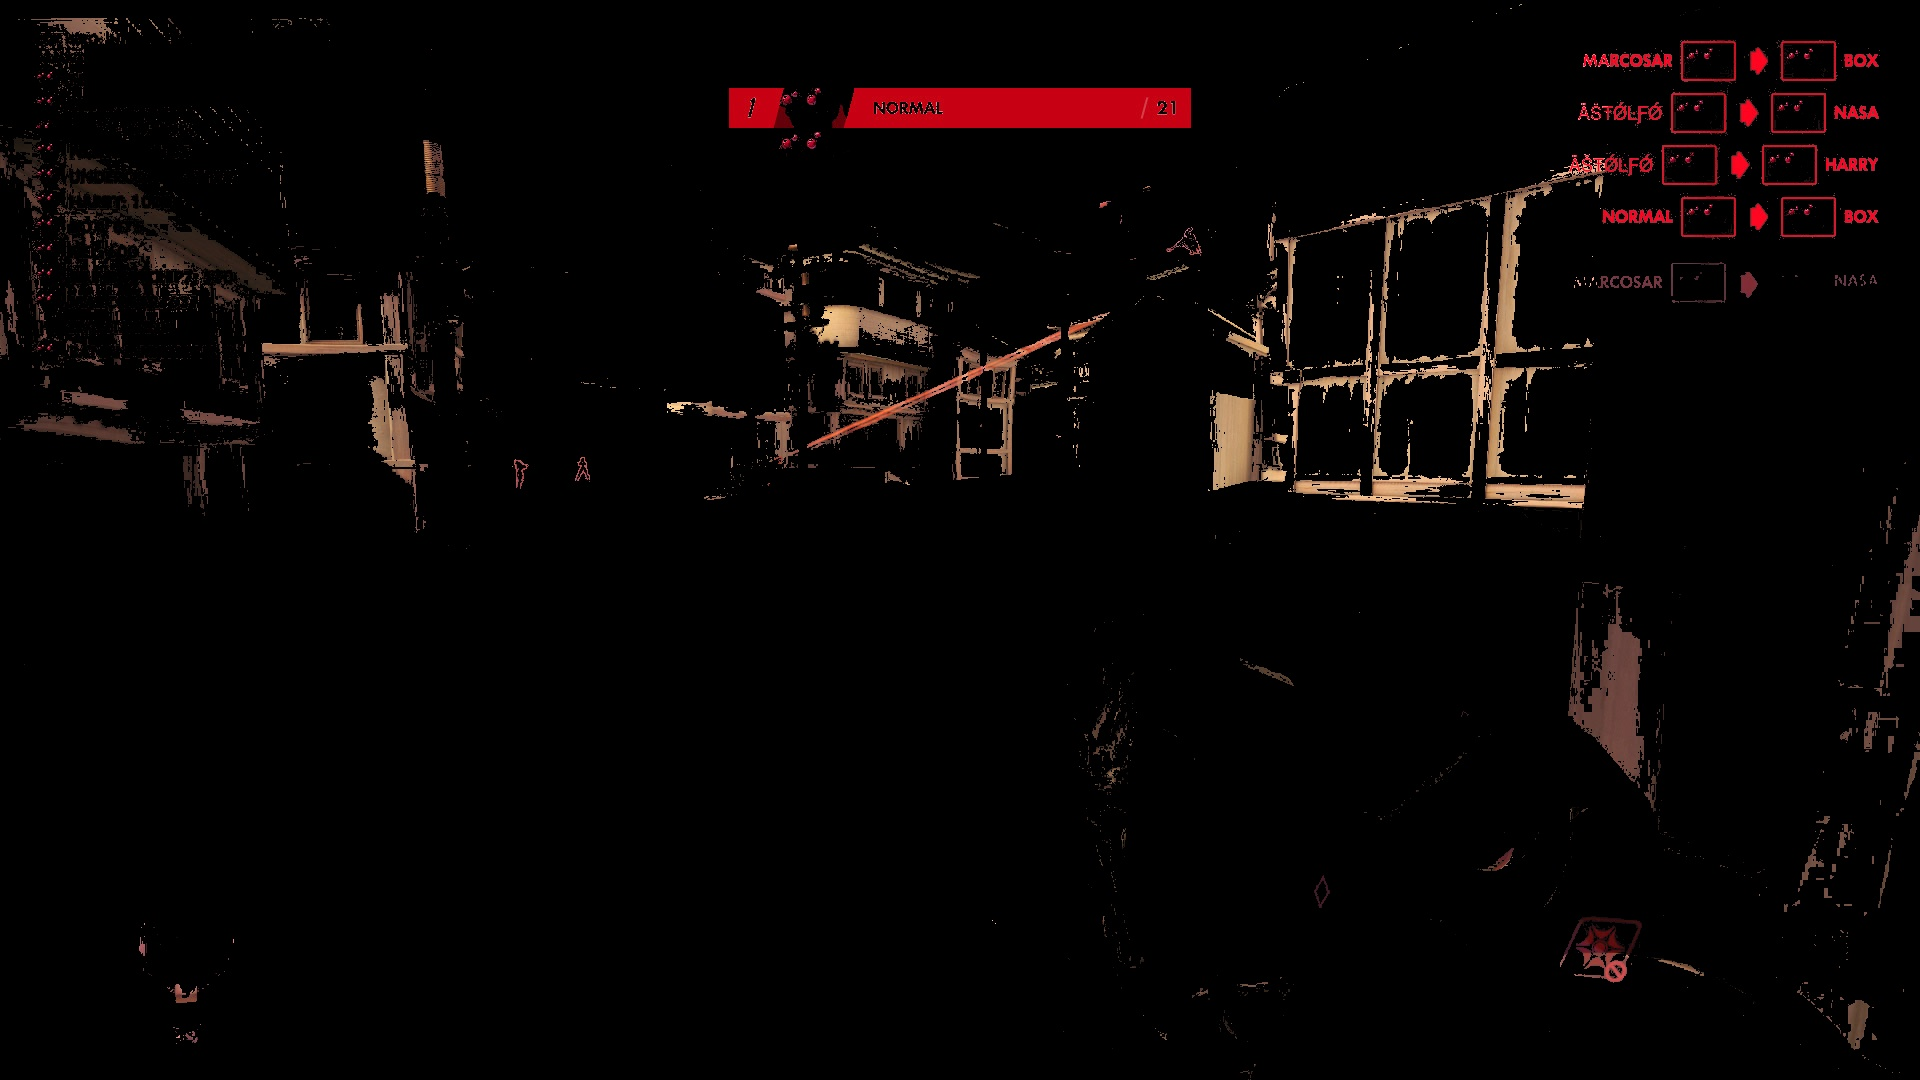widowmaker: (1174, 225, 1204, 258), (508, 458, 531, 493), (572, 454, 593, 488)
